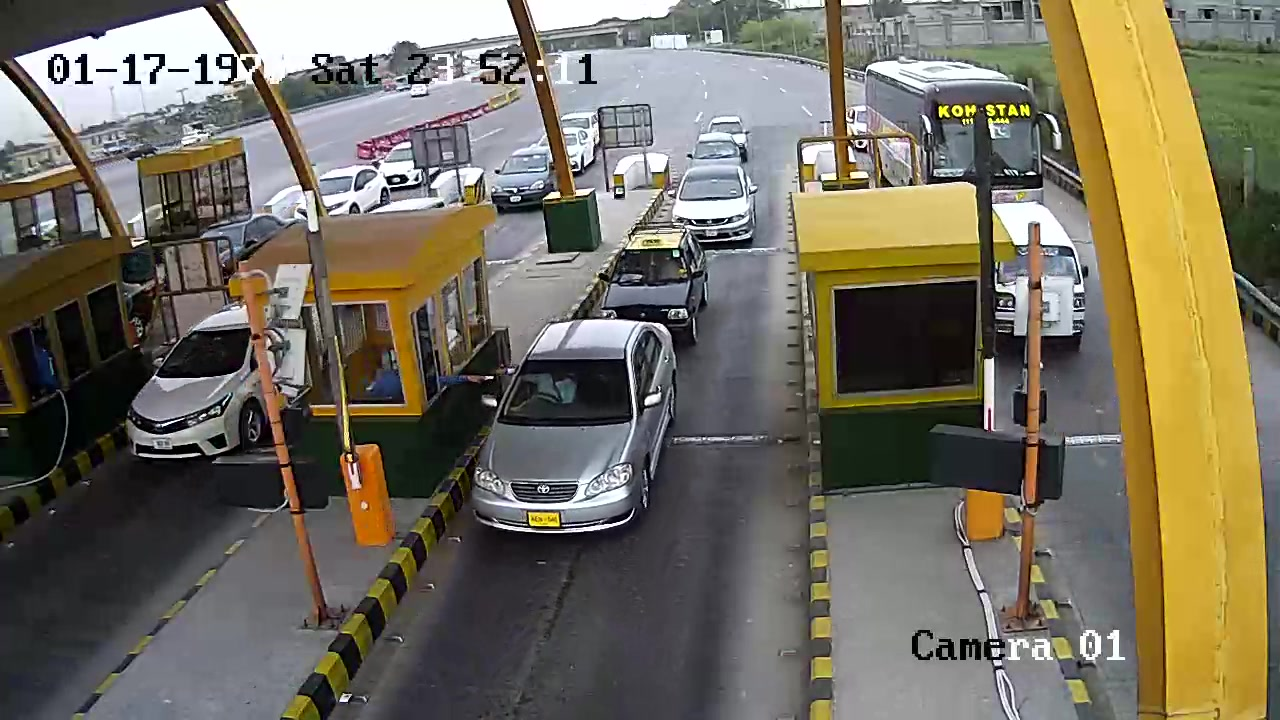F1: (461, 318, 683, 555)
